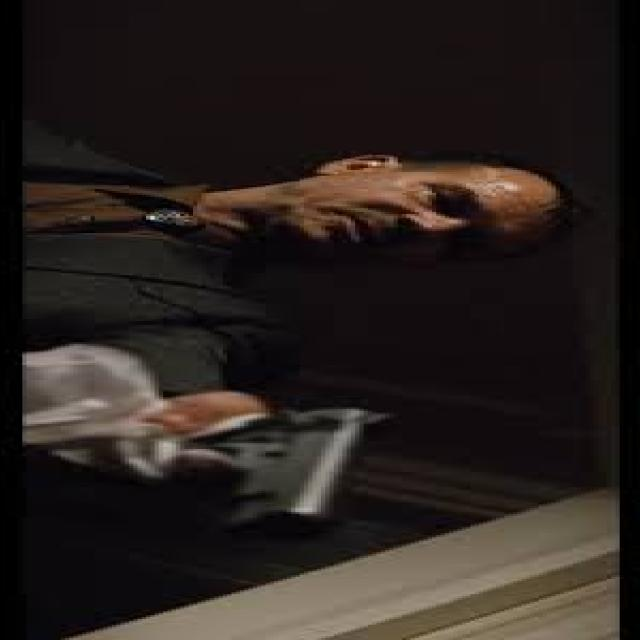weapons: (78, 360, 492, 564)
